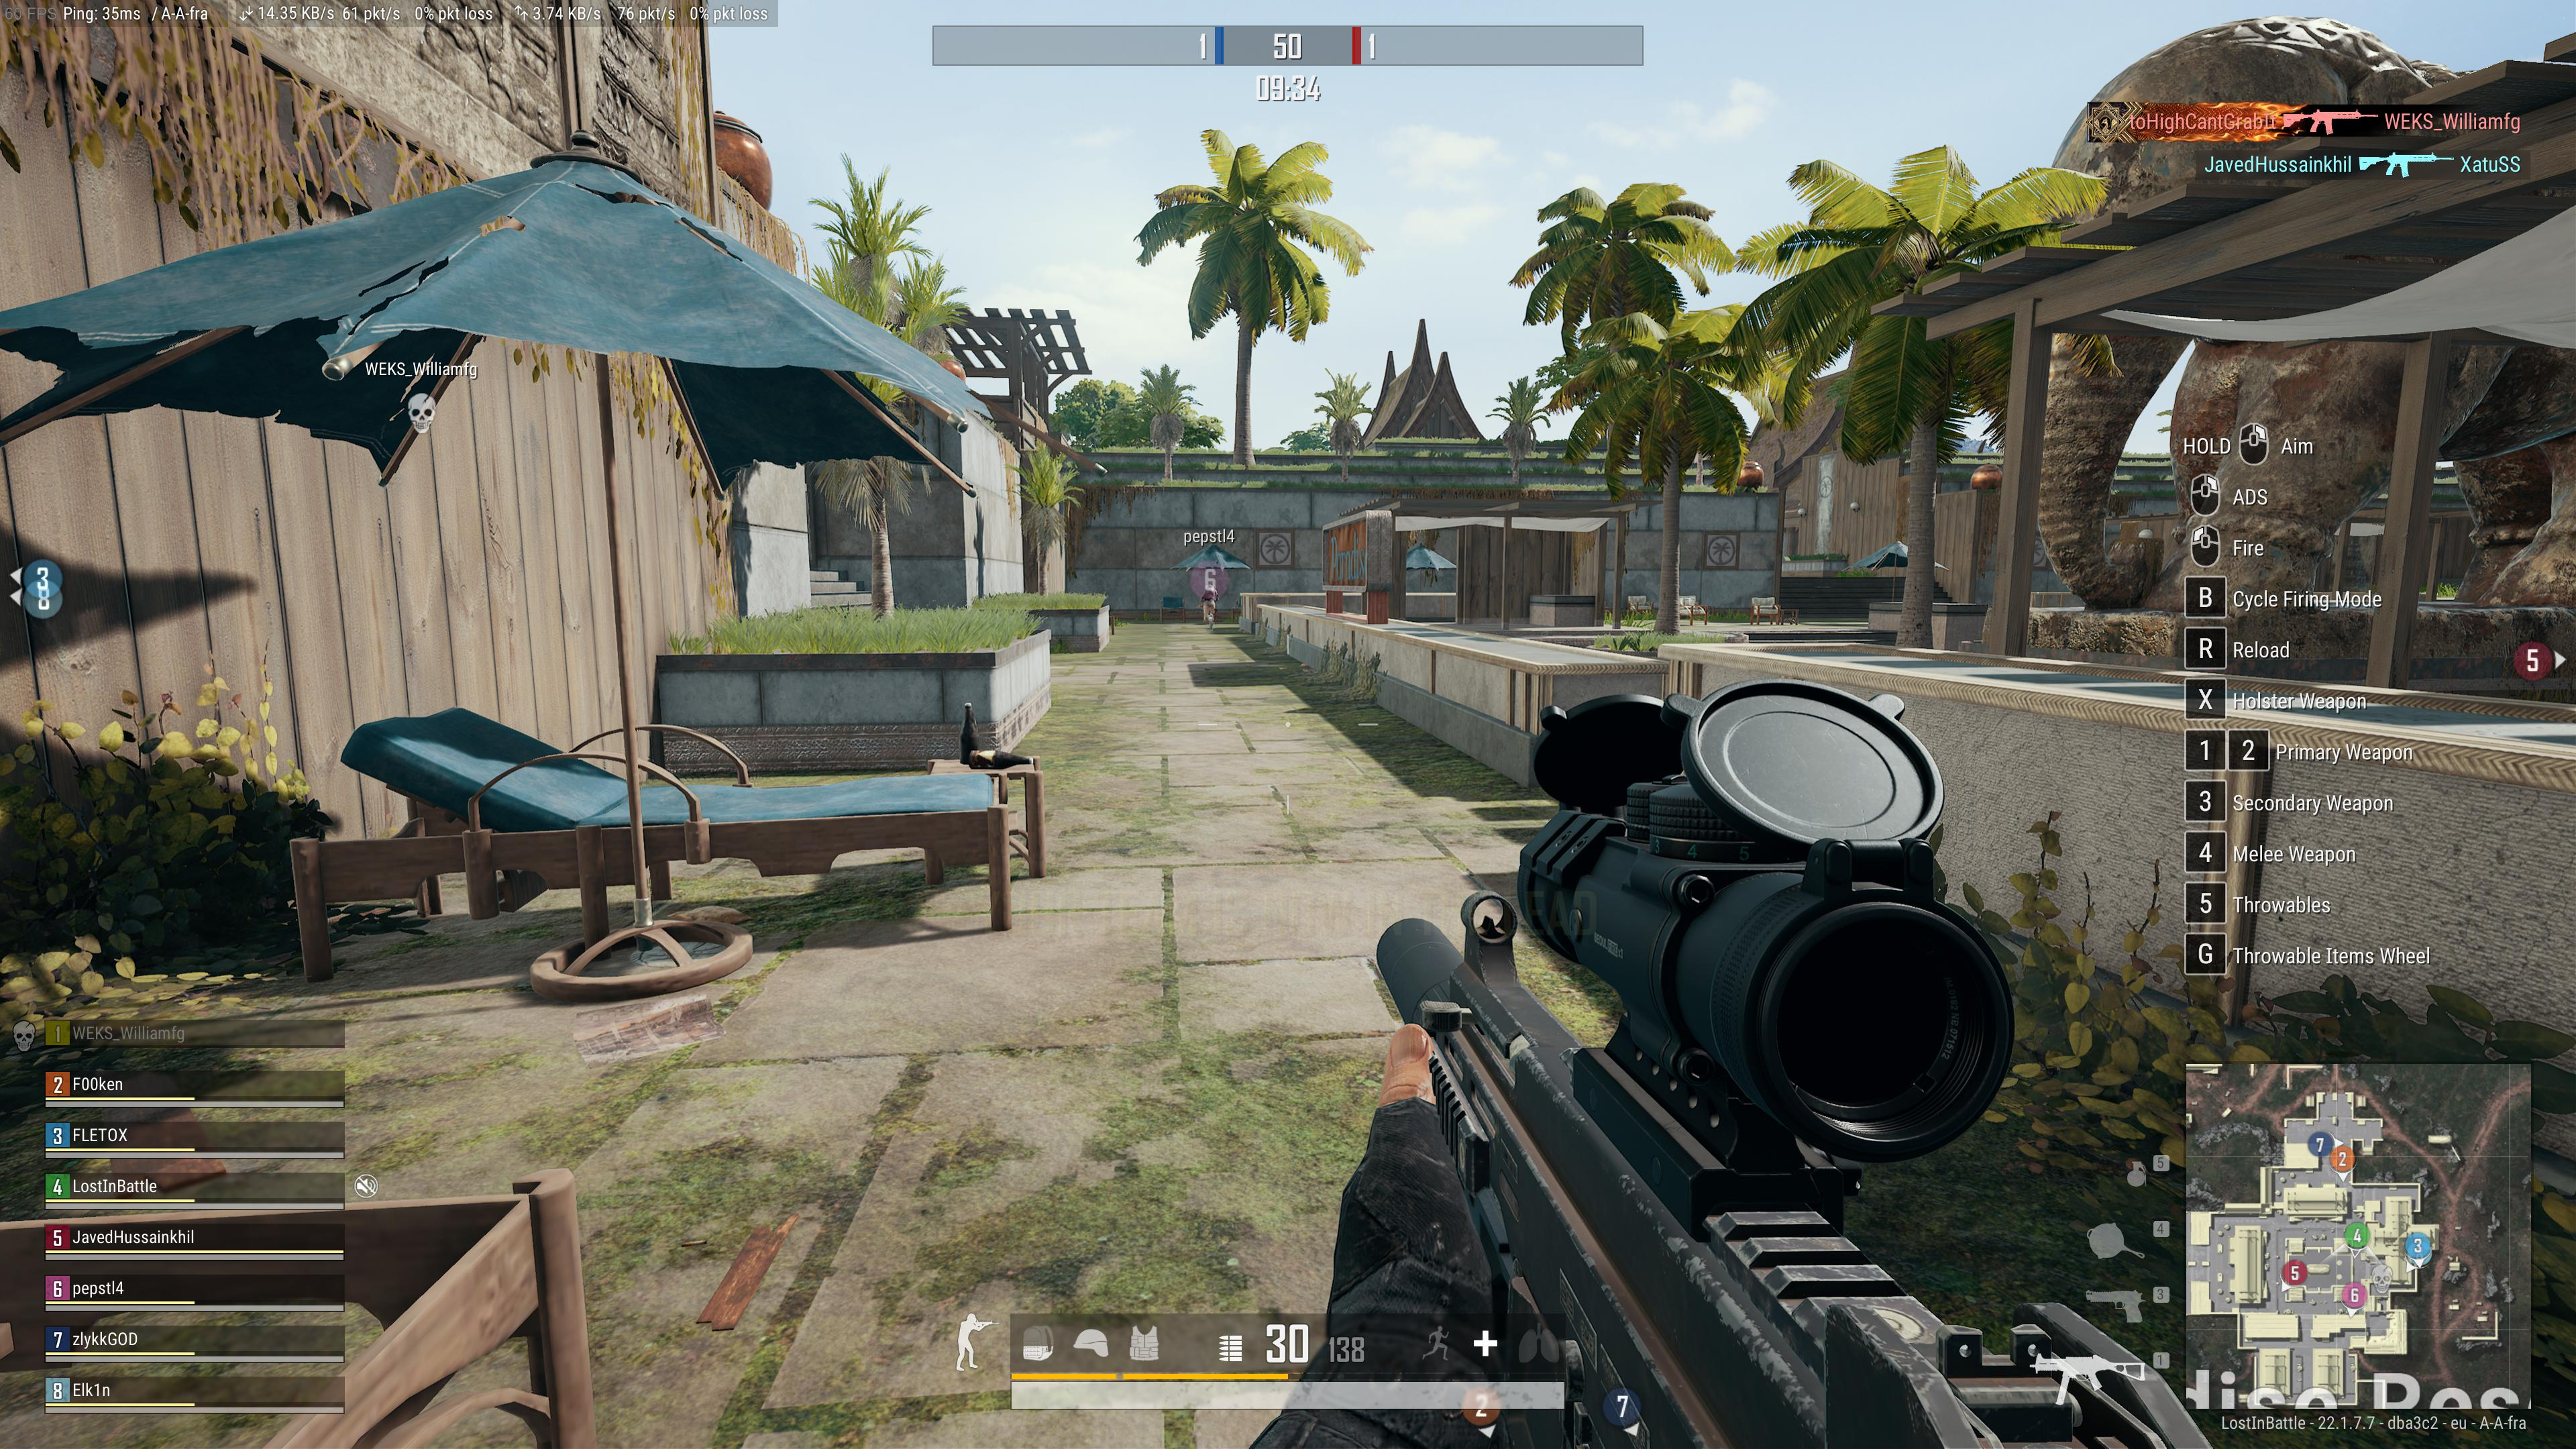friendly: (1198, 577, 1219, 632)
